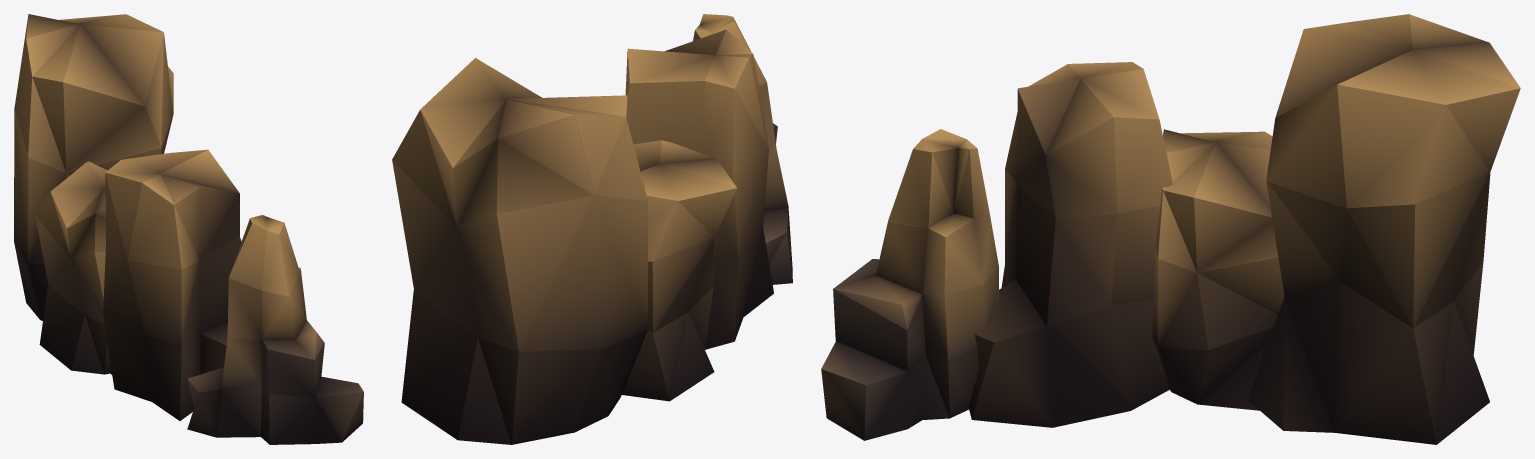
File: level2RockBrkn_grp.fbx
The picture shows the model from 3 angles, left to right: view 1: azimuth 30°, elevation 25°; view 2: azimuth 150°, elevation 25°; view 3: azimuth 270°, elevation 25°; orthographic projection. The views are drawn at different scales.
Visible parts, largest first — view 1: rockSml_05, rockMed_03, rockSml_04 (×2), rockLrg_01, rockSml_03 (×2), rockMed_01, rockMed_04, rockLrg_02, rockSml_02 (×2), rockLrg_04, rockLrg_03, rockMed_02 (+1 smaller); view 2: rockSml_03 (×2), rockSml_04 (×2), rockSml_02 (×2), rockMed_02, rockMed_05, rockSml_05 (×2), rockMed_01, rockMed_03, rockLrg_01, rockLrg_02, rockMed_04, rockLrg_04; view 3: rockSml_03 (×2), rockSml_04 (×2), rockSml_02 (×2), rockMed_01, rockSml_05 (×2), rockMed_04, rockMed_05, rockLrg_02, rockLrg_01, rockSml_01 (×2), rockLrg_03, rockLrg_04 (+2 smaller).
Part boxes in pixels (x1=…): rockSml_05: x1=14, y1=24, x2=160, y2=172; rockMed_03: x1=105, y1=160, x2=200, y2=342; rockSml_04 (×2): x1=15, y1=14, x2=173, y2=258; rockLrg_01: x1=187, y1=367, x2=363, y2=444; rockSml_03 (×2): x1=14, y1=66, x2=173, y2=374; rockMed_01: x1=103, y1=315, x2=227, y2=420; rockMed_04: x1=161, y1=174, x2=241, y2=333; rockLrg_02: x1=221, y1=267, x2=306, y2=389; rockSml_02 (×2): x1=14, y1=242, x2=111, y2=374; rockLrg_04: x1=229, y1=217, x2=299, y2=296; rockLrg_03: x1=261, y1=320, x2=324, y2=397; rockMed_02: x1=103, y1=174, x2=145, y2=334; rockSml_03 (×2): x1=392, y1=110, x2=715, y2=444; rockSml_04 (×2): x1=420, y1=58, x2=736, y2=236; rockSml_02 (×2): x1=401, y1=289, x2=714, y2=444; rockMed_02: x1=703, y1=81, x2=768, y2=262; rockMed_05: x1=625, y1=48, x2=715, y2=153; rockSml_05 (×2): x1=506, y1=95, x2=661, y2=201; rockMed_01: x1=705, y1=228, x2=773, y2=349; rockMed_03: x1=705, y1=54, x2=768, y2=148; rockLrg_01: x1=763, y1=207, x2=792, y2=284; rockLrg_02: x1=758, y1=82, x2=788, y2=211; rockMed_04: x1=665, y1=29, x2=752, y2=55; rockLrg_04: x1=699, y1=14, x2=766, y2=85; rockSml_03 (×2): x1=1152, y1=105, x2=1490, y2=355; rockSml_04 (×2): x1=1163, y1=14, x2=1520, y2=208; rockSml_02 (×2): x1=1152, y1=282, x2=1489, y2=444; rockMed_01: x1=968, y1=265, x2=1169, y2=427; rockSml_05 (×2): x1=1155, y1=14, x2=1412, y2=272; rockMed_04: x1=1016, y1=78, x2=1160, y2=325; rockMed_05: x1=1045, y1=69, x2=1172, y2=218; rockLrg_02: x1=876, y1=213, x2=998, y2=359; rockLrg_01: x1=821, y1=341, x2=978, y2=440; rockSml_01 (×2): x1=1197, y1=297, x2=1334, y2=432; rockLrg_03: x1=833, y1=259, x2=926, y2=371; rockLrg_04: x1=888, y1=129, x2=966, y2=228.
Bounding box in the file's own units: 152 × 196 × 358.
